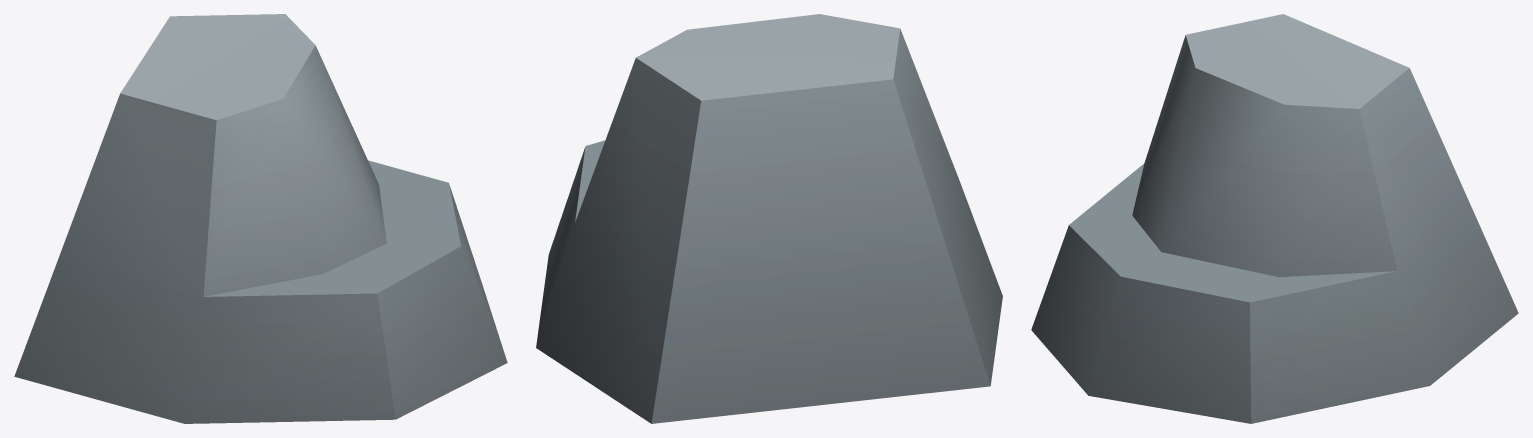
The model's file is kk_rock_c_v1.glb.
The picture shows the model from 3 angles, left to right: view 1: azimuth 30°, elevation 25°; view 2: azimuth 150°, elevation 25°; view 3: azimuth 270°, elevation 25°; orthographic projection. The views are drawn at different scales.
Visible parts, largest first — view 1: rock_single_C; view 2: rock_single_C; view 3: rock_single_C.
Boxes of the visible parts, x1,y1,x2,y2 form: rock_single_C: (14,14,507,423); rock_single_C: (536,14,1002,423); rock_single_C: (1031,14,1518,423).
Bounding box in the file's own units: 0.3439 × 0.1948 × 0.3442.
Materials: 1 (1 with a texture image).
